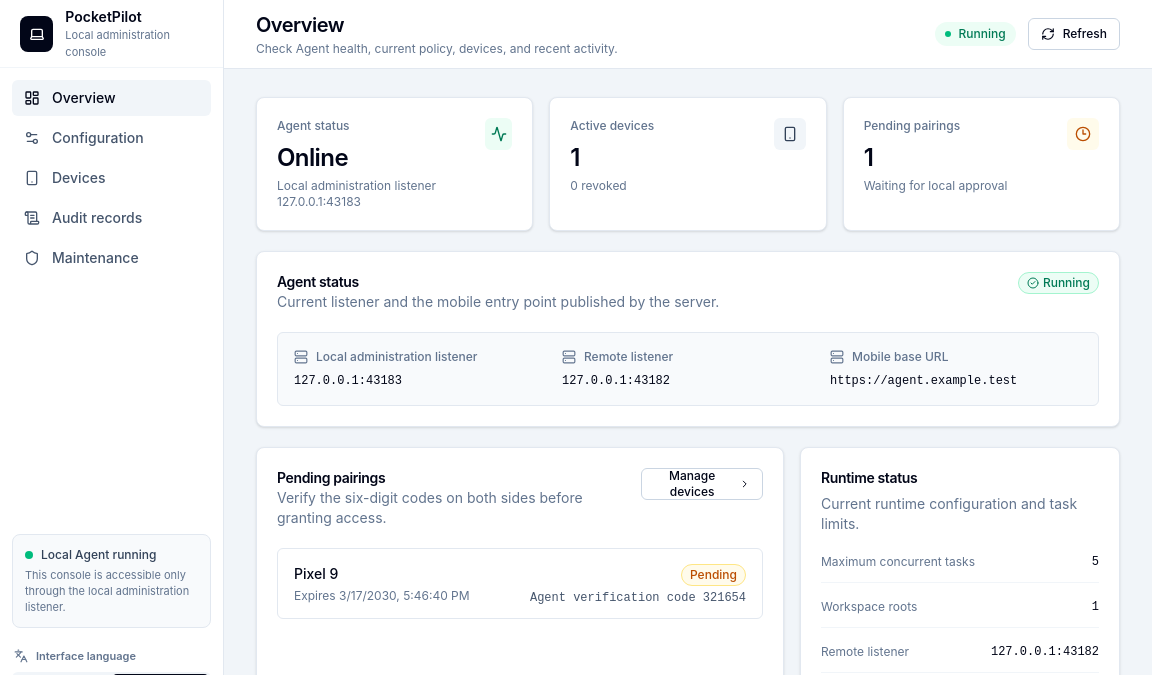
Test: App › renders English chrome while preserving opaque server values
expect the heading "Overview" is shown: met, box [256,13,344,37]
expect the text "127.0.0.1:43183" is shown: met, box [294,374,402,388]
Click the button "Devices".
click(112, 178)  # box [12,160,211,196]
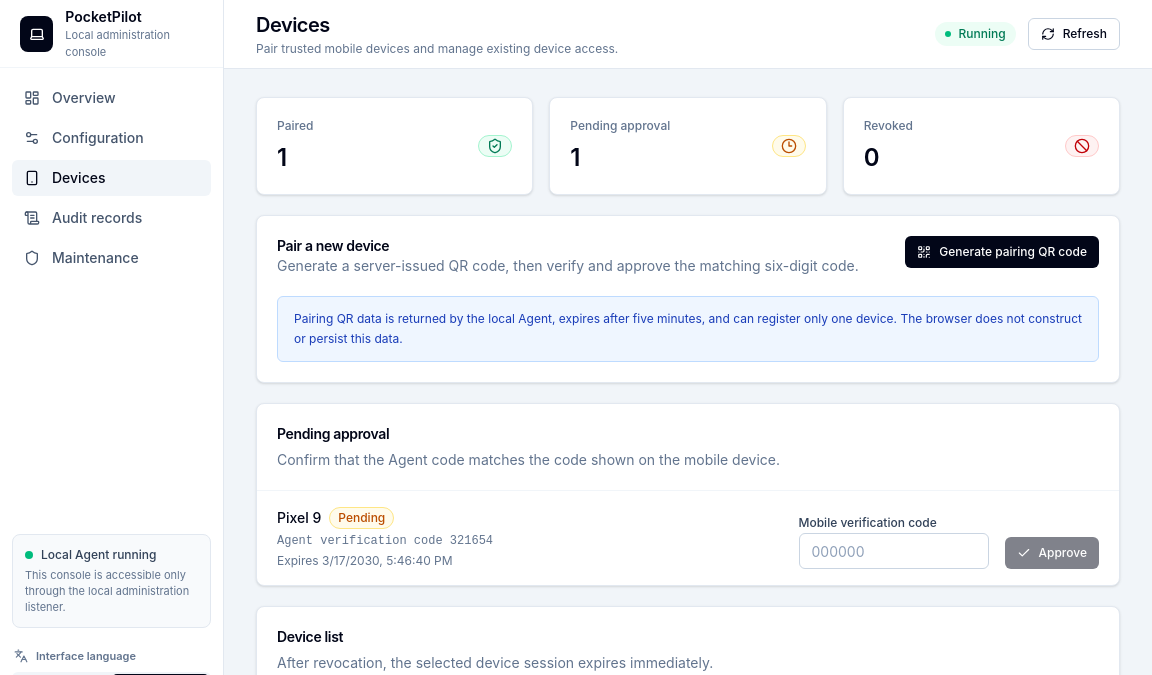
expect the text "Pairing QR data is returned by the local Agent, expires after five minutes, and can register only one device. The browse" is shown: met, box [277,296,1099,362]
Click the button "Maintenance".
click(112, 258)  # box [12,240,211,276]
(page scrolled)
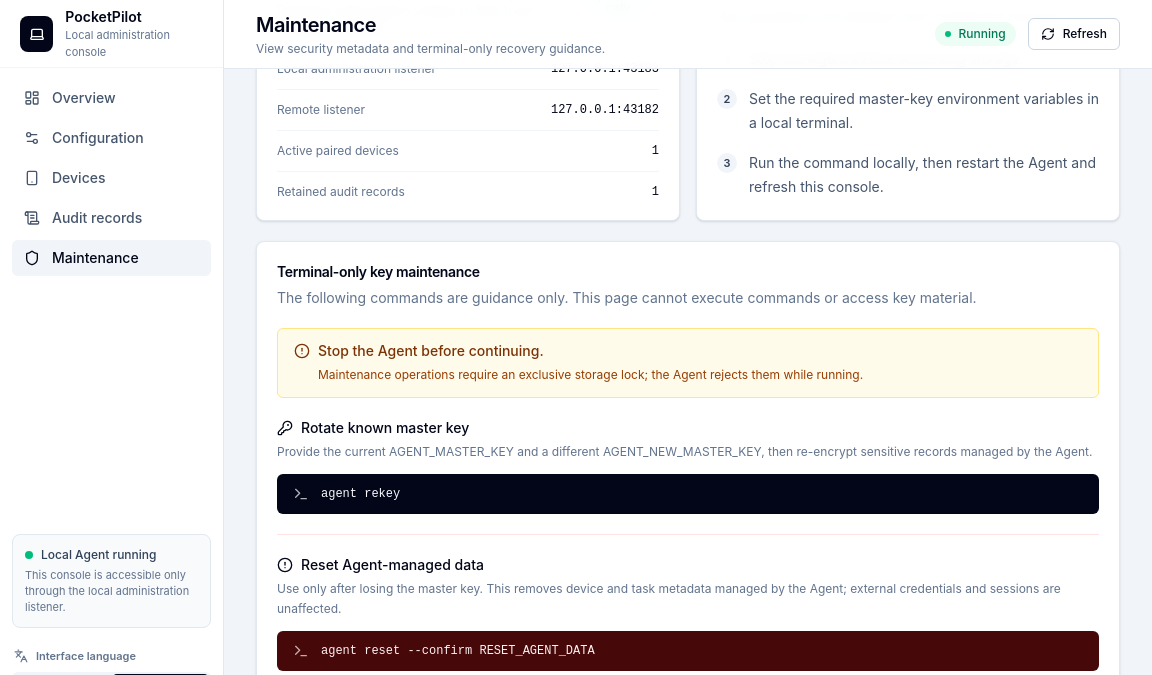
expect the text "agent rekey" is shown: met, box [277,474,1099,514]
expect the text "agent reset --confirm RESET_AGENT_DATA" is shown: met, box [277,631,1099,671]
